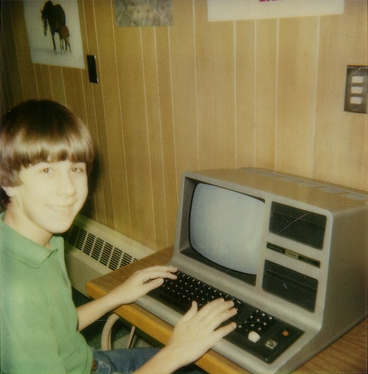person: (1, 98, 239, 373)
